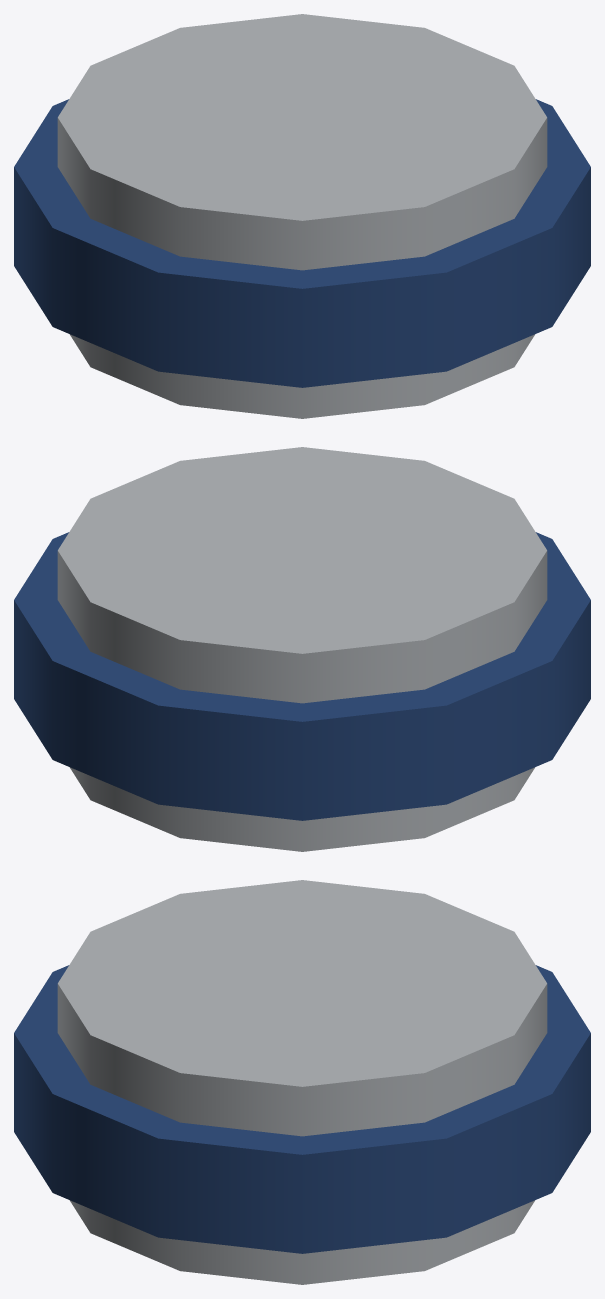
The model's file is good-cannedfish.glb.
3 views of the same model, one above another, from view 1: azimuth 30°, elevation 25°; view 2: azimuth 150°, elevation 25°; view 3: azimuth 270°, elevation 25° (orthographic).
Visible parts, largest first — view 1: #b0b4b8 metal 0.7 rough 0.3, #2c4a7a_noshadow; view 2: #b0b4b8 metal 0.7 rough 0.3, #2c4a7a_noshadow; view 3: #b0b4b8 metal 0.7 rough 0.3, #2c4a7a_noshadow.
Part boxes in pixels (x1,y1,x2,y2): #b0b4b8 metal 0.7 rough 0.3: (57,14,547,418); #2c4a7a_noshadow: (14,99,590,387); #b0b4b8 metal 0.7 rough 0.3: (57,447,547,851); #2c4a7a_noshadow: (14,532,590,820); #b0b4b8 metal 0.7 rough 0.3: (57,880,547,1284); #2c4a7a_noshadow: (14,965,590,1253).
Size of the model in its own units: 0.132 by 0.05 by 0.132.
